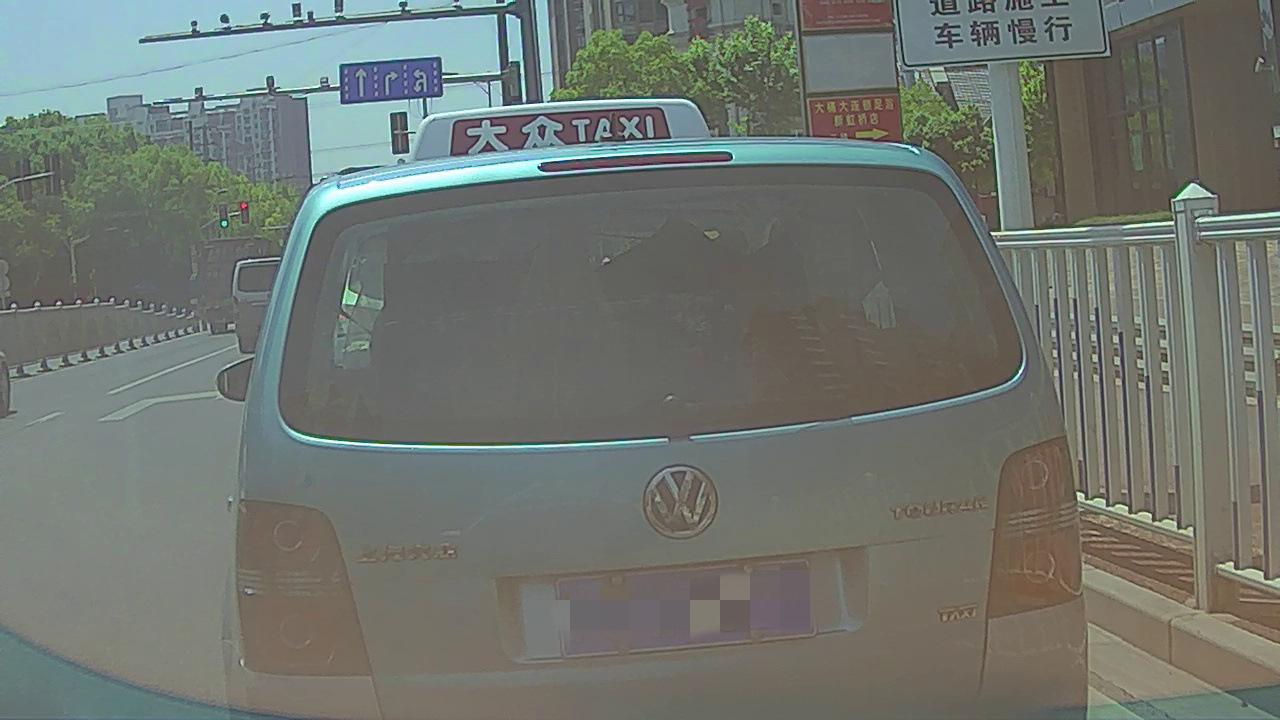traffic_light: (240, 201, 249, 223), (220, 203, 228, 227)
